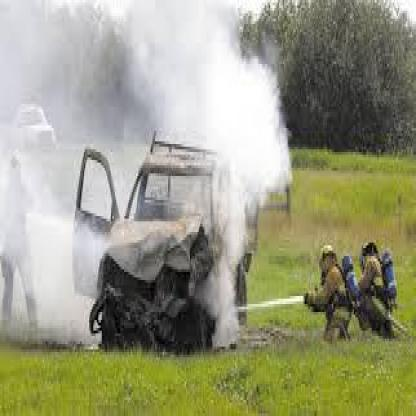smoke: (192, 26, 292, 289)
